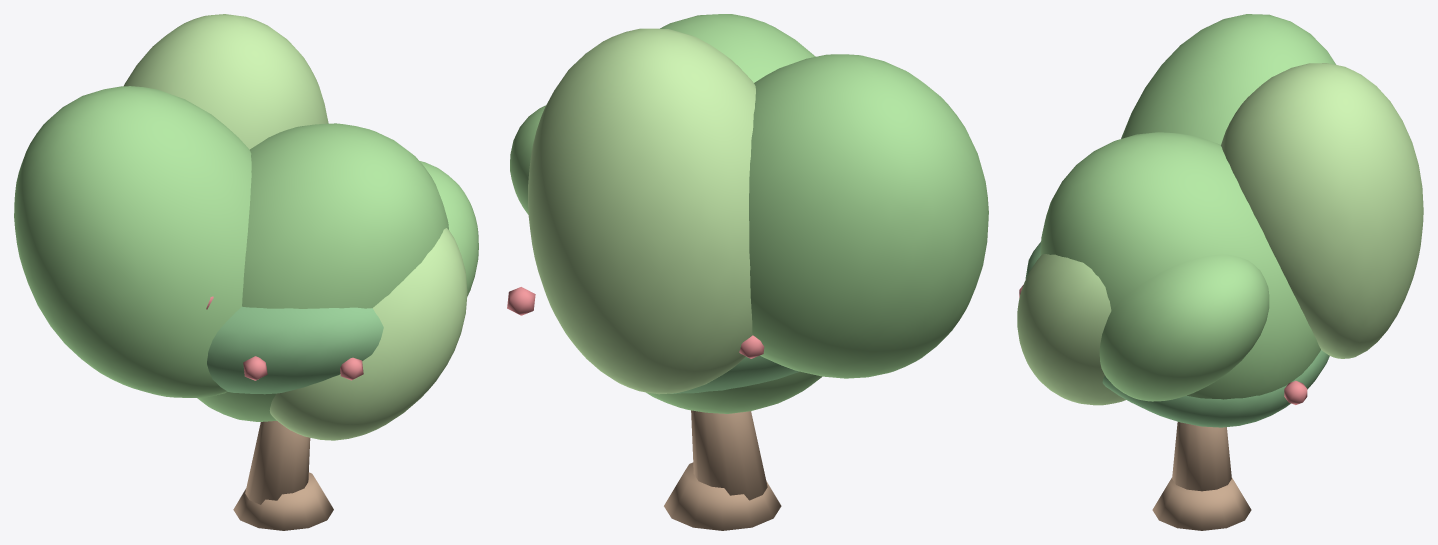
The model's file is tree_apple.glb.
3 views of the same model, side by side, from view 1: azimuth 30°, elevation 25°; view 2: azimuth 150°, elevation 25°; view 3: azimuth 270°, elevation 25° (orthographic). The views are drawn at different scales.
Visible parts, largest first — view 1: tree_apple; view 2: tree_apple; view 3: tree_apple.
Boxes of the visible parts, box(x1,y1,x2,y2) form: tree_apple: box(14, 14, 478, 530); tree_apple: box(507, 14, 988, 530); tree_apple: box(1017, 14, 1423, 530).
Bounding box in the file's own units: 5.18 × 5.36 × 4.5.
